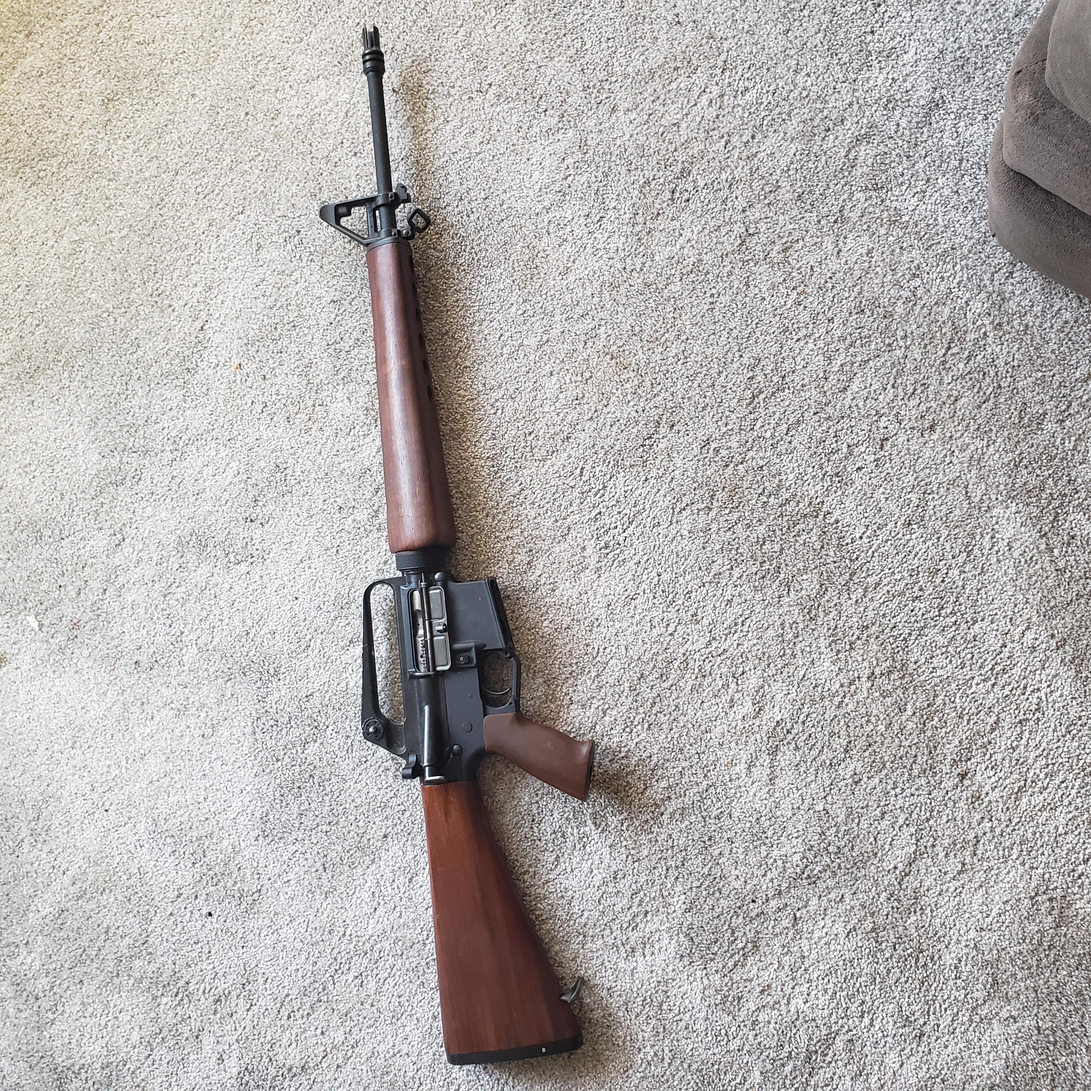larga: (319, 22, 598, 1068)
